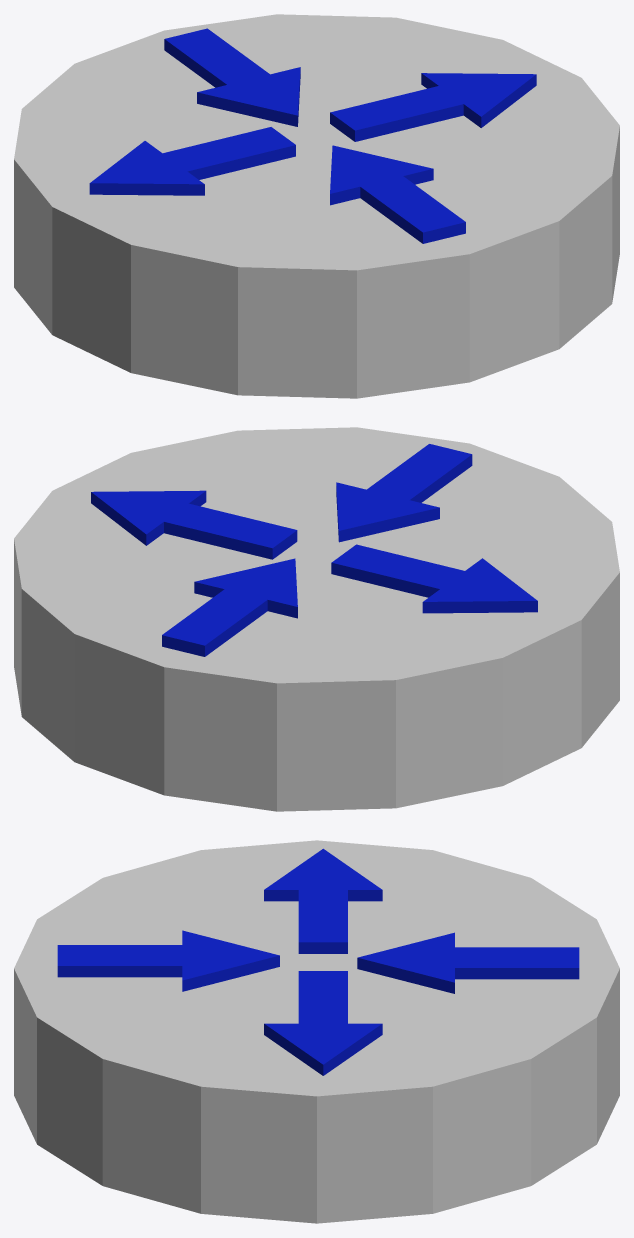
File: router.fbx
3 renders of one model, top to bottom at view 1: azimuth 30°, elevation 25°; view 2: azimuth 150°, elevation 25°; view 3: azimuth 270°, elevation 25°, orthographic.
Parts seen in each view (by area): view 1: Cube.004; view 2: Cube.004; view 3: Cube.004.
Boxes of the visible parts, box(x1,y1,x2,y2) form: Cube.004: box(14, 14, 619, 398); Cube.004: box(14, 427, 619, 811); Cube.004: box(14, 840, 619, 1223).
Size of the model in its own units: 20000 by 20000 by 5046.
